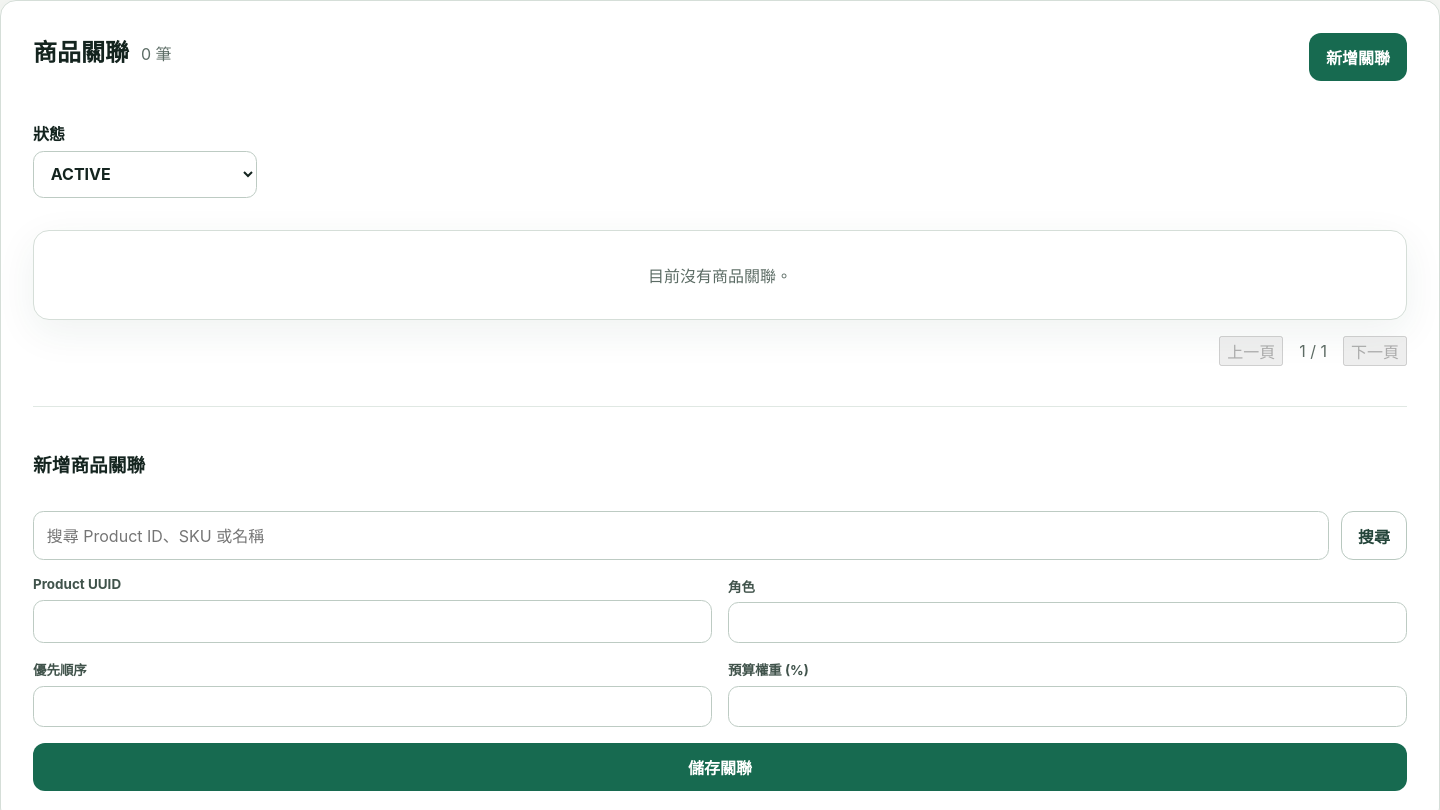
CampaignProducts › offers reload recovery for save status 409
Expected: the text "目前沒有商品關聯。" is shown, [33,230,1407,320]
Type "d4476a19-30ed-48d9-a518-f9b111bd0911" into the field labelled "Product UUID" at coordinates (372, 622), box [33,600,712,643]
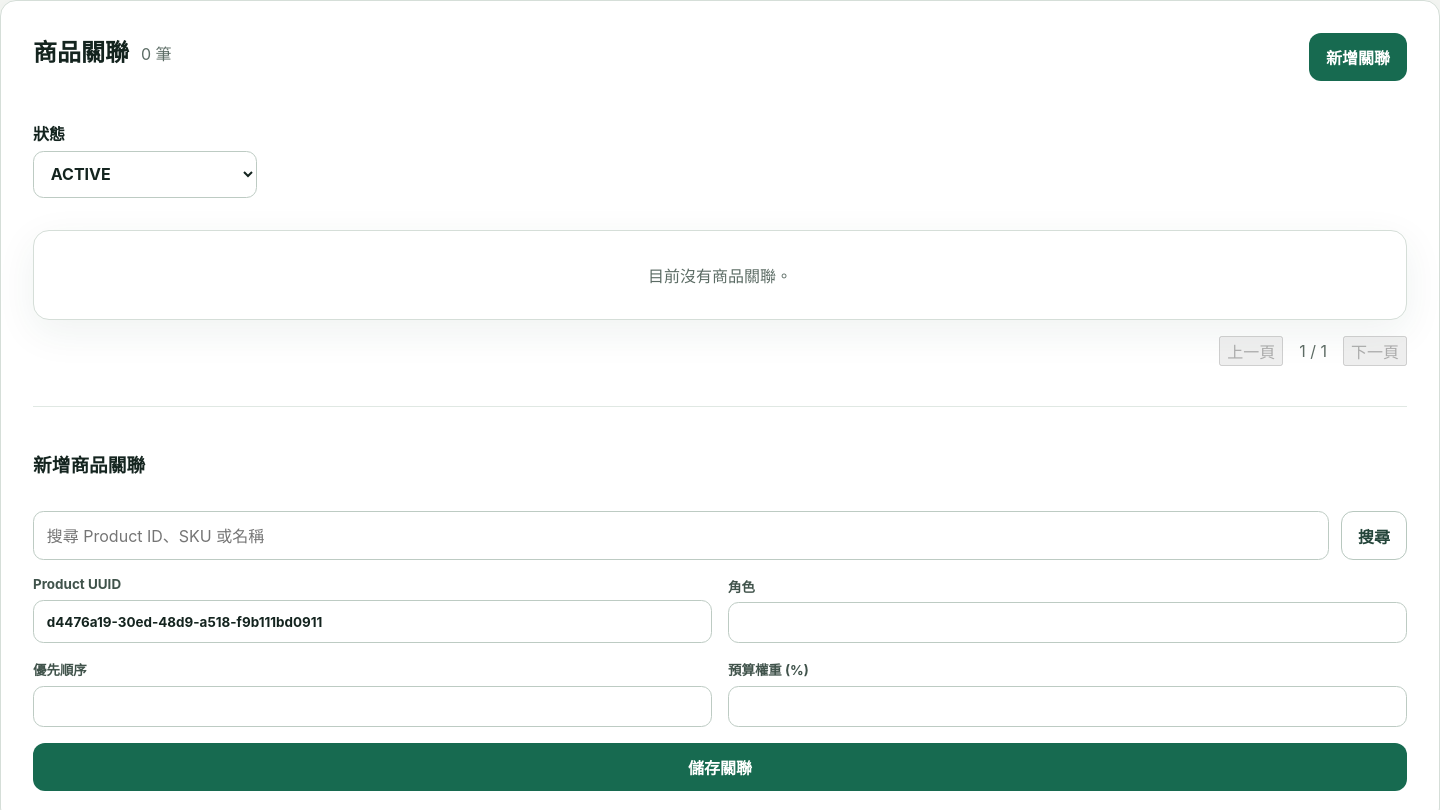
Click the button "儲存關聯" at coordinates (720, 767), box [33,743,1407,791]
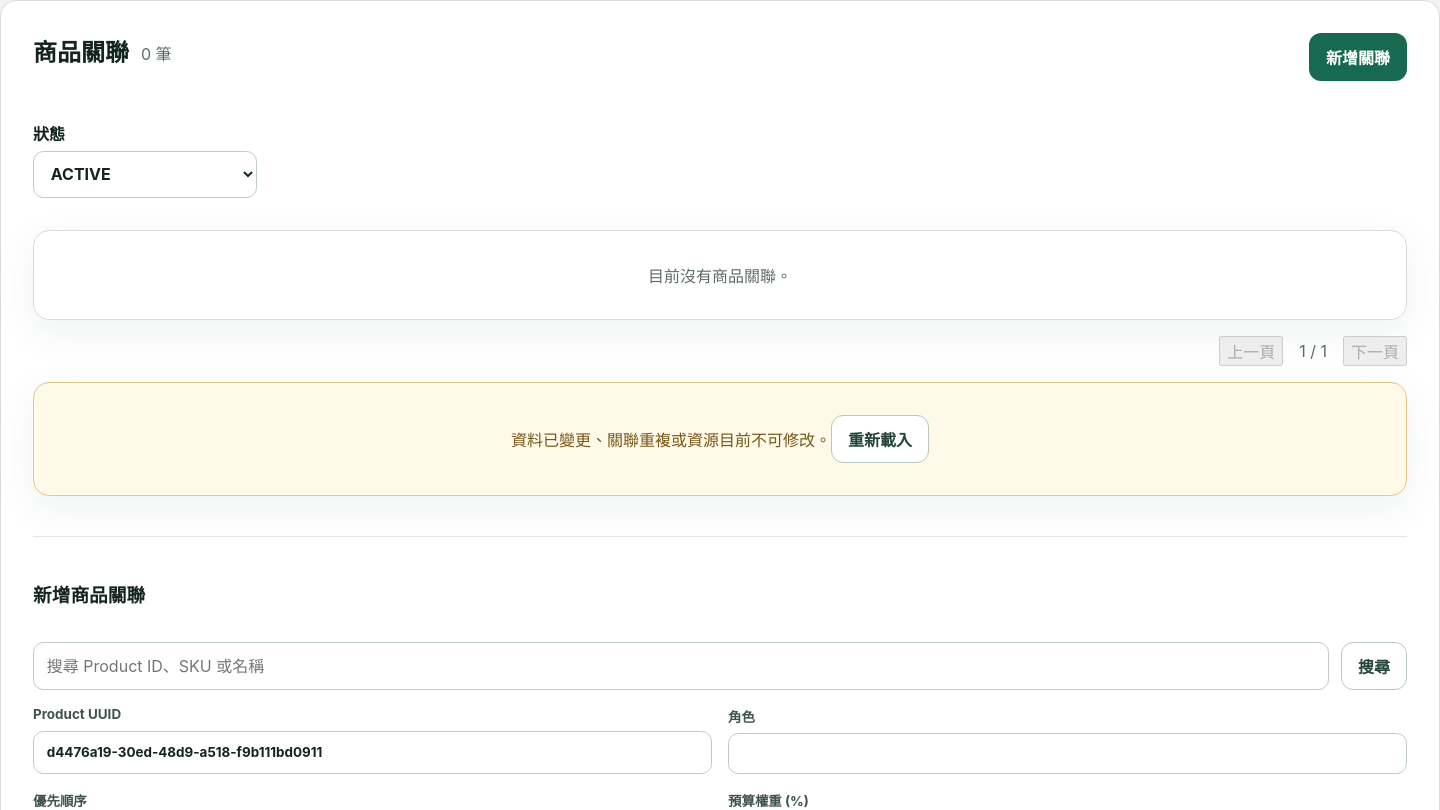
Now the message shows "資料已變更", box [511,430,831,450]
